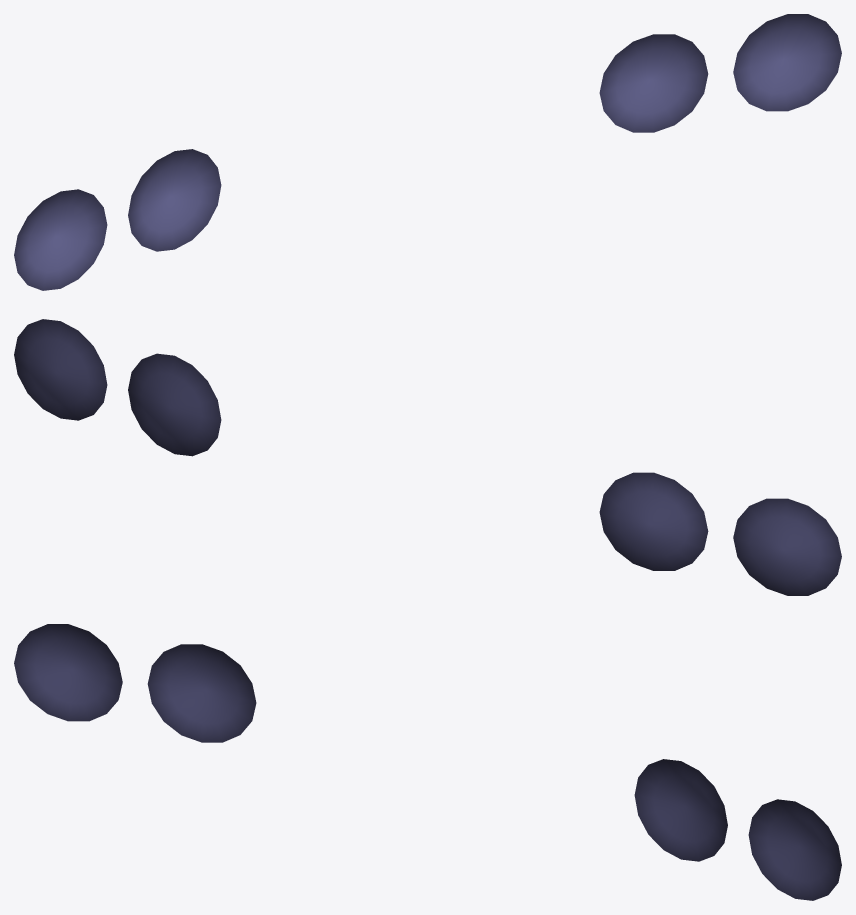
Rendered from Zr1_RB_02_Detail.fbx.
3 views of the same model, one above another, from view 1: azimuth 30°, elevation 25°; view 2: azimuth 150°, elevation 25°; view 3: azimuth 330°, elevation 25° (orthographic).
Parts seen in each view (by area): view 1: Zr1_RB_02_Detail; view 2: Zr1_RB_02_Detail; view 3: Zr1_RB_02_Detail.
Boxes of the visible parts, x1,y1,x2,y2 form: Zr1_RB_02_Detail: [14, 14, 841, 290]; Zr1_RB_02_Detail: [14, 319, 841, 595]; Zr1_RB_02_Detail: [14, 624, 841, 900].
Bounding box in the file's own units: 151 × 17.52 × 5.87.
